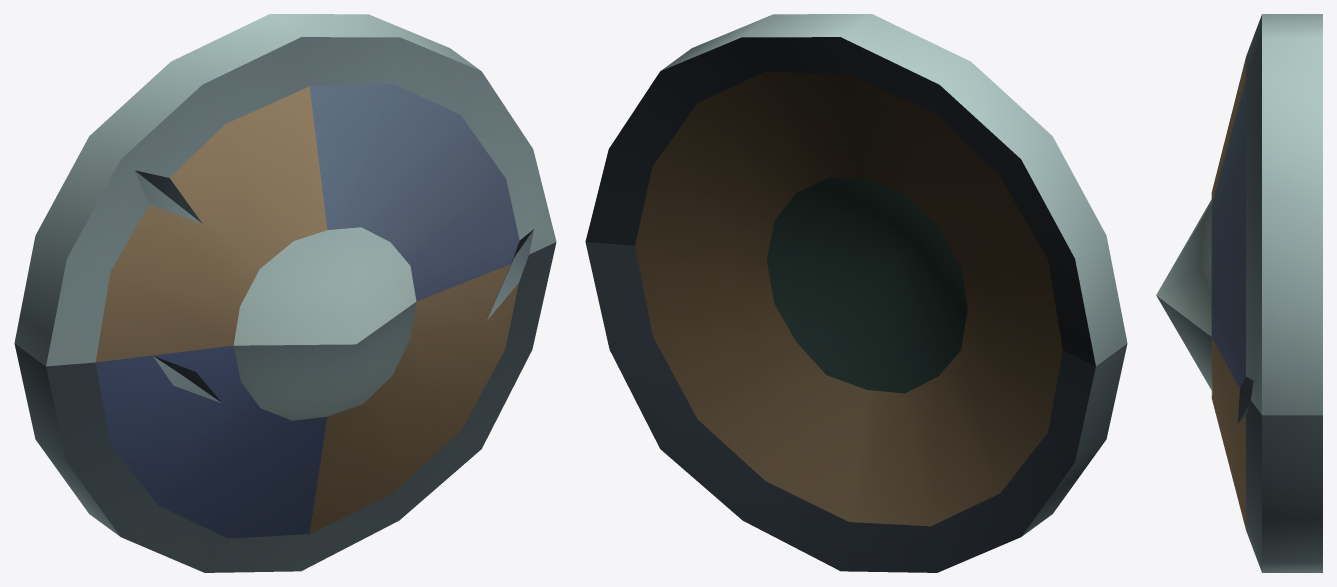
File: shield.fbx
3 renders of one model, left to right at view 1: azimuth 30°, elevation 25°; view 2: azimuth 150°, elevation 25°; view 3: azimuth 270°, elevation 25°, orthographic. The views are drawn at different scales.
Parts seen in each view (by area): view 1: shield; view 2: shield; view 3: shield.
Boxes of the visible parts, left/top/right/bottom form: shield: left=14, top=14, right=556, bottom=572; shield: left=585, top=14, right=1127, bottom=572; shield: left=1156, top=14, right=1322, bottom=572.
Bounding box in the file's own units: 206 × 206 × 60.6.
